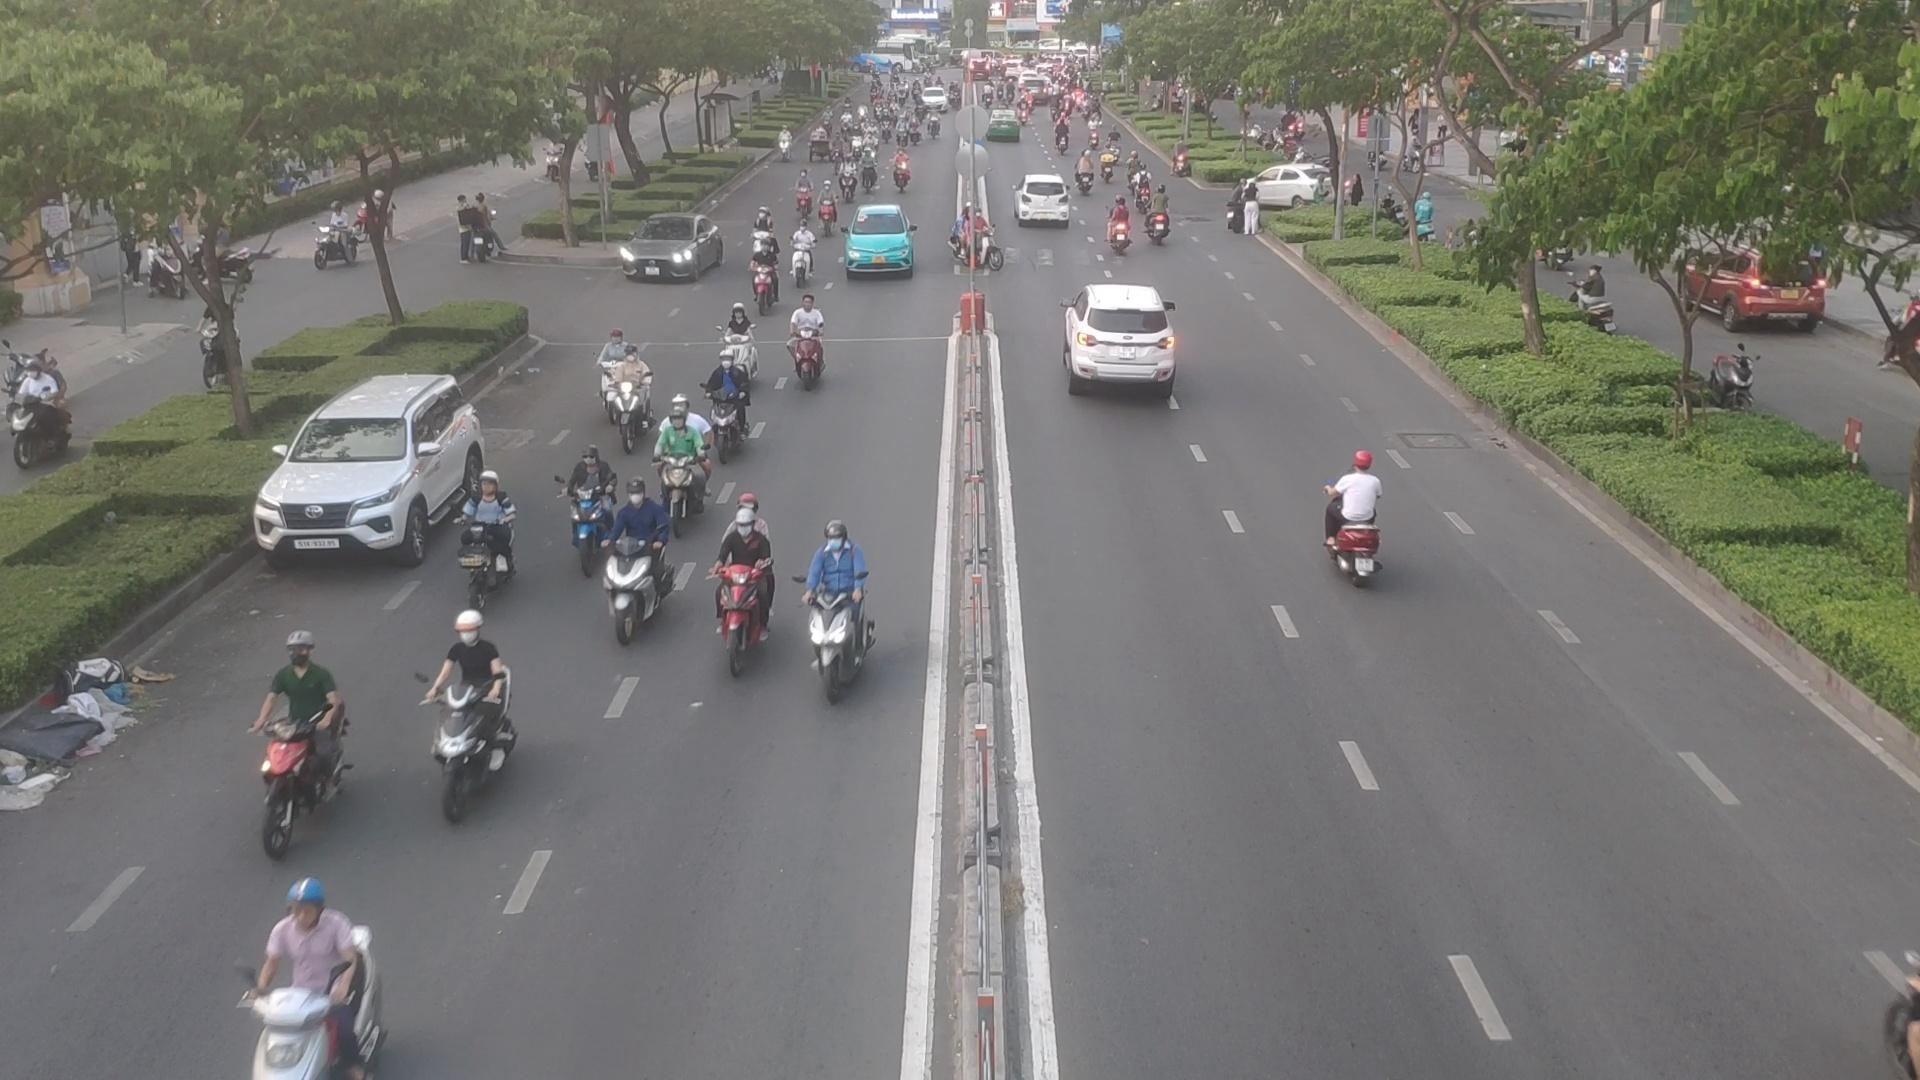car: (255, 376, 491, 568), (1062, 286, 1174, 392), (618, 216, 727, 286), (839, 204, 913, 280), (1015, 175, 1073, 229)
motorbike: (241, 884, 373, 1080), (256, 630, 359, 857), (419, 630, 521, 798), (810, 520, 887, 700), (715, 495, 785, 662), (595, 339, 667, 471), (612, 487, 676, 634), (464, 475, 521, 601), (1332, 442, 1383, 579), (667, 400, 713, 517), (705, 361, 761, 454), (787, 294, 837, 392), (560, 444, 599, 566), (592, 324, 624, 425), (955, 204, 1002, 269), (1102, 191, 1139, 265), (713, 309, 744, 385), (785, 224, 824, 274), (742, 236, 774, 295), (787, 167, 814, 224), (814, 182, 840, 231), (758, 207, 781, 262), (1147, 186, 1170, 239), (1135, 164, 1154, 218), (856, 150, 876, 199), (836, 154, 858, 194), (1079, 156, 1097, 200), (1125, 149, 1139, 186), (897, 154, 905, 190)
